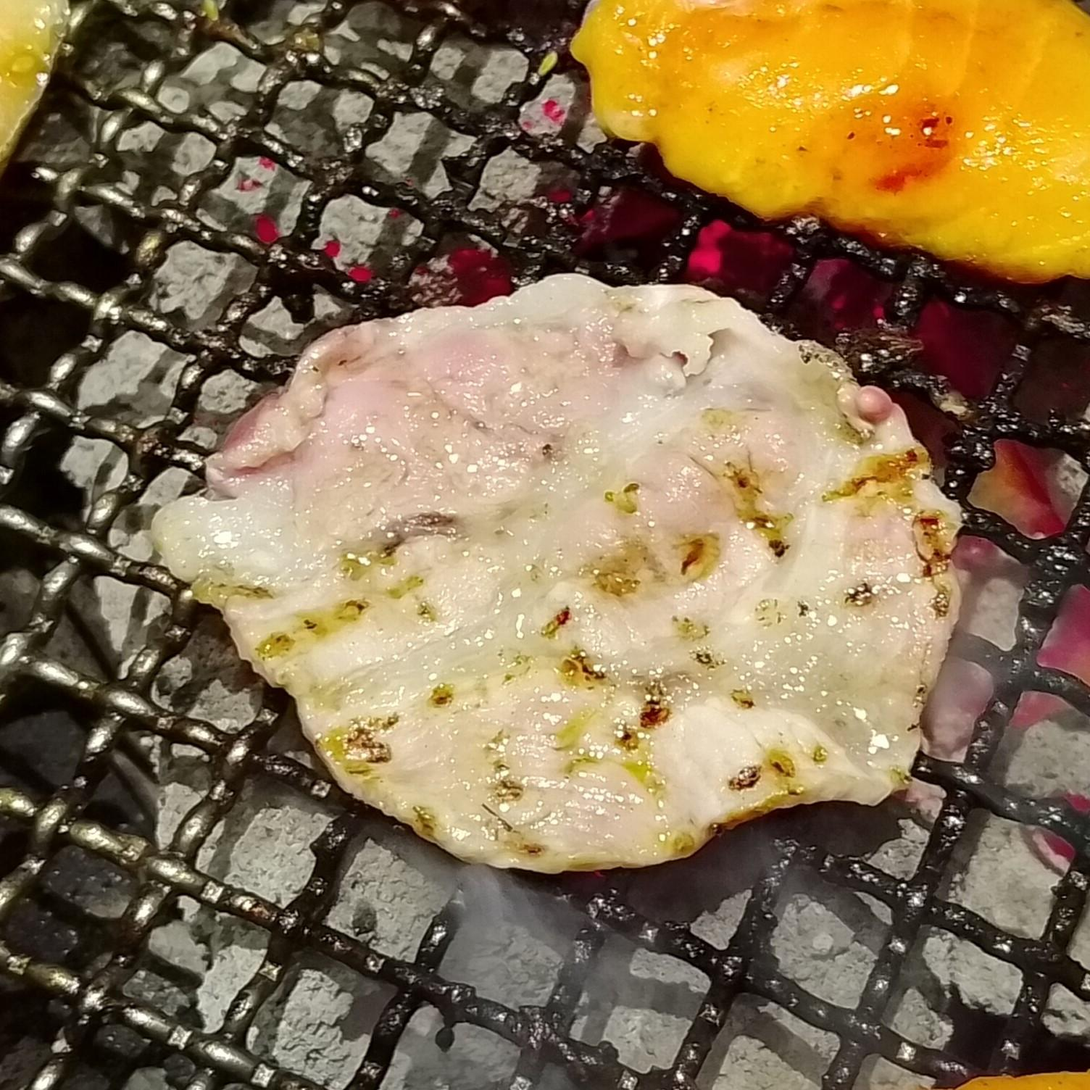Undercooked: (146, 275, 964, 879)
